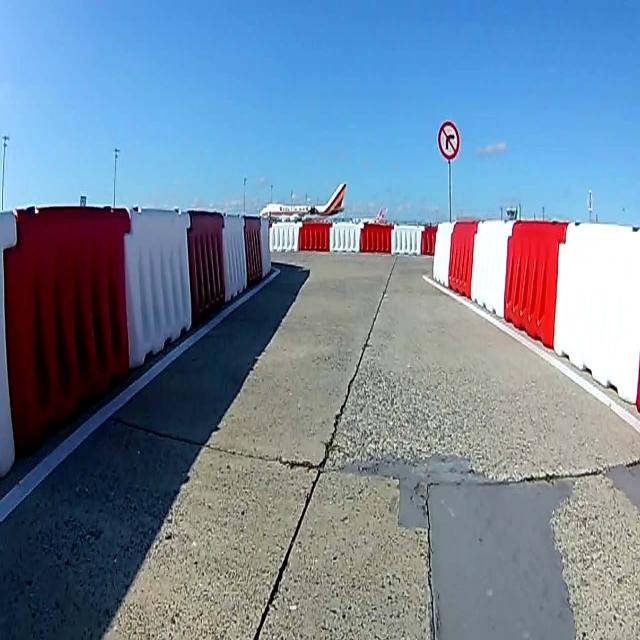sagadonulmez: (438, 122, 459, 158)
